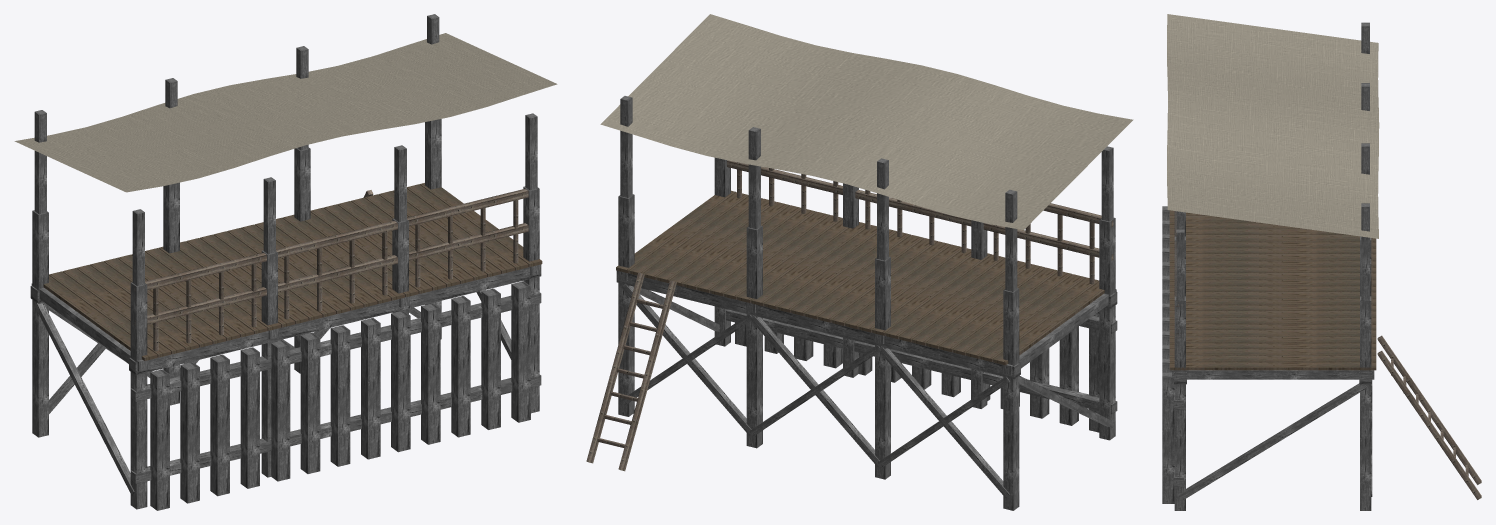
Rendered from cadafal_toldo.glb.
3 views of the same model, side by side, from view 1: azimuth 30°, elevation 25°; view 2: azimuth 150°, elevation 25°; view 3: azimuth 270°, elevation 25° (orthographic). The views are drawn at different scales.
Bounding box in the file's own units: 6.6 × 4.79 × 4.48.
Materials: 4 (4 with a texture image).
